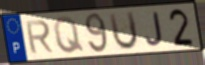2: (168, 8, 195, 48)
9: (83, 12, 109, 54)
J: (144, 11, 165, 48)
Q: (52, 15, 86, 55)
R: (24, 19, 56, 56)
U: (107, 10, 140, 52)
